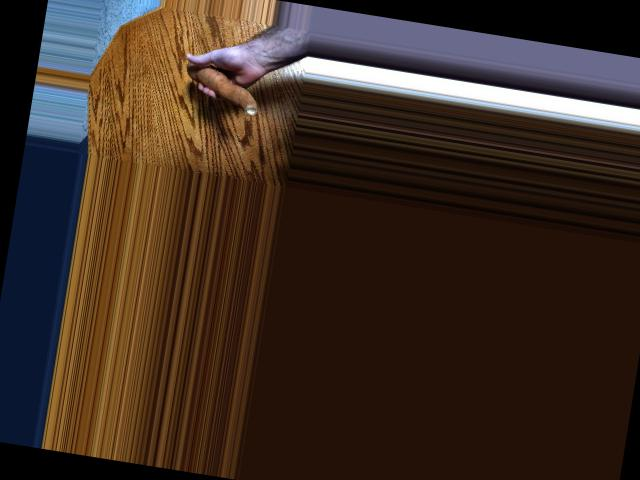sweet_potato: (184, 62, 266, 116)
